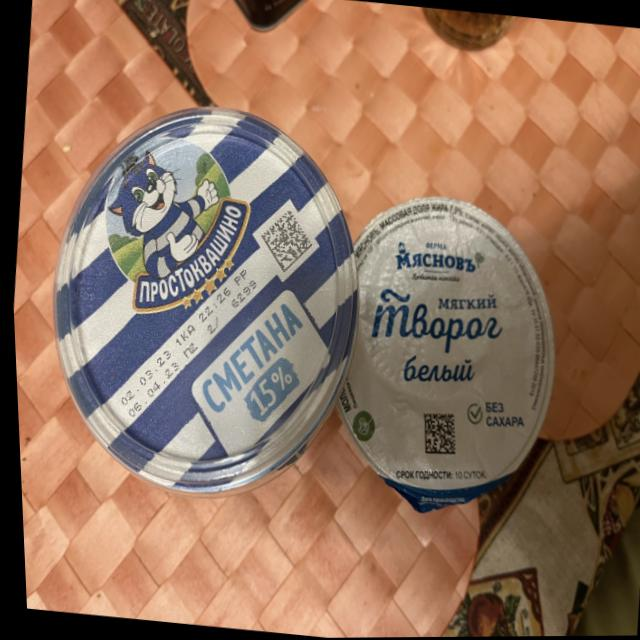datamatrix: (254, 208, 315, 276), (416, 410, 456, 457)
